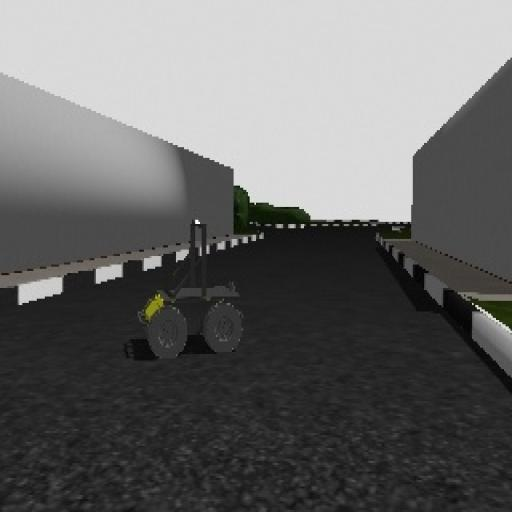huskya200: (115, 212, 254, 376)
